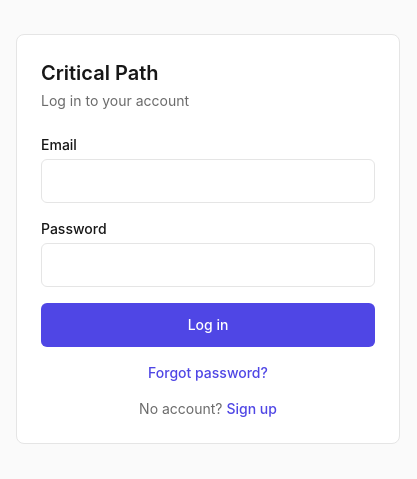
Test case: Login › shows the invalid-credentials message on 401
Type "ada@example.com" into the field labelled "Email" at (208, 181), box [41,159,375,203]
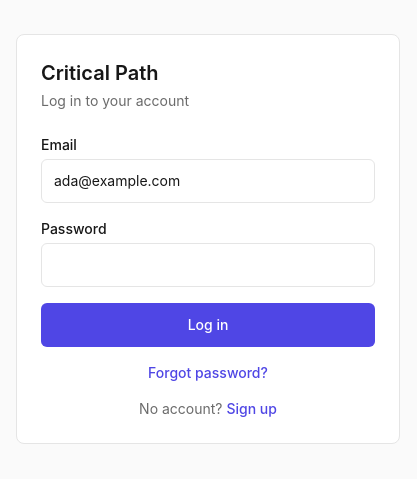
Type "wrong-password" into the password field labelled "Password" at (208, 265), box [41,243,375,287]
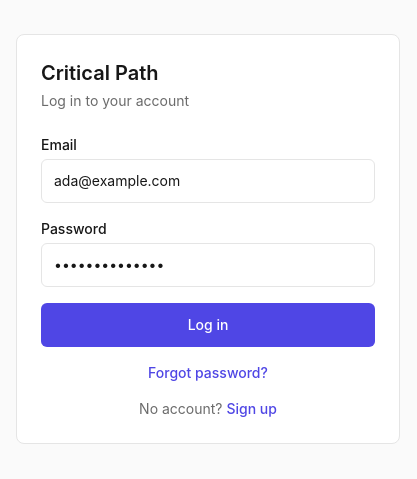
Click the button "Log in" at (208, 325), box [41,303,375,347]
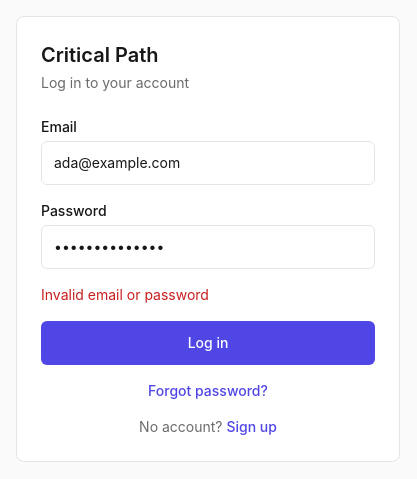
Expected: the message reads "Invalid email or password", [41,286,209,303]
